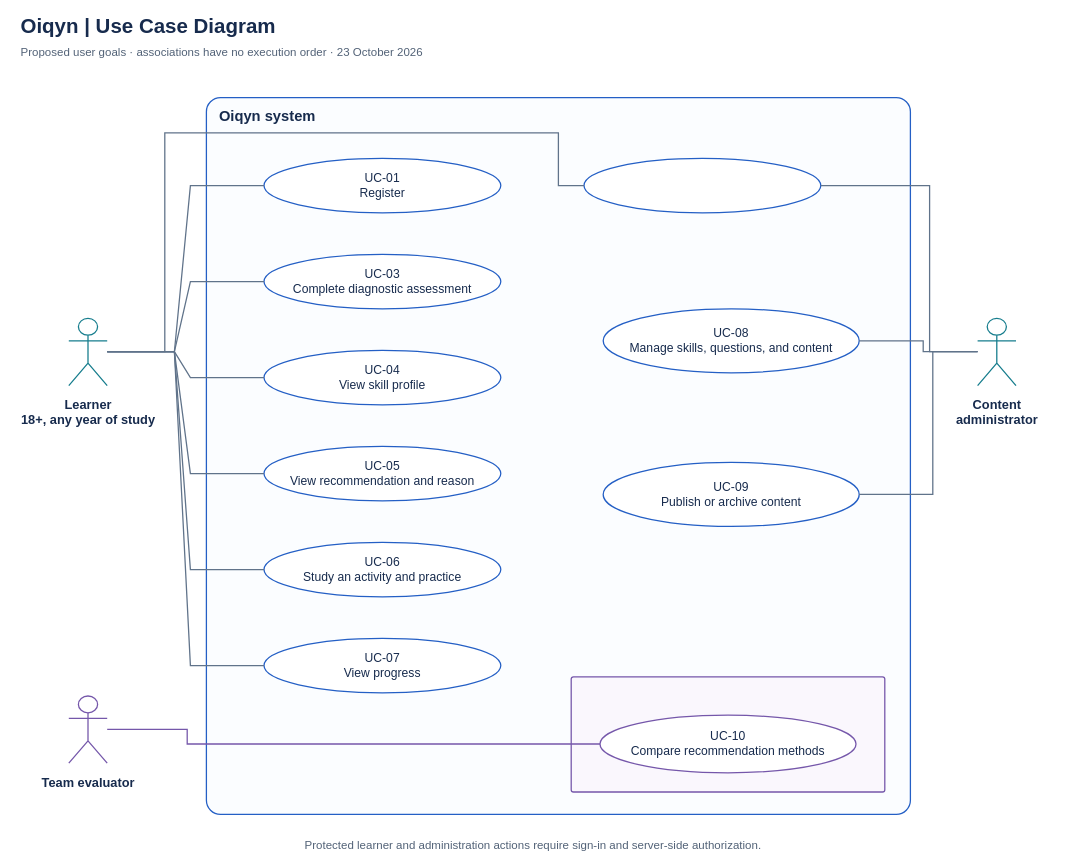
This 1084x866 diagram has some shape labels left out. Each missing label, with the box of its shape:
Offline evaluation tool: (570, 676, 885, 792)
UC-02 Sign in / sign out: (583, 157, 821, 213)
